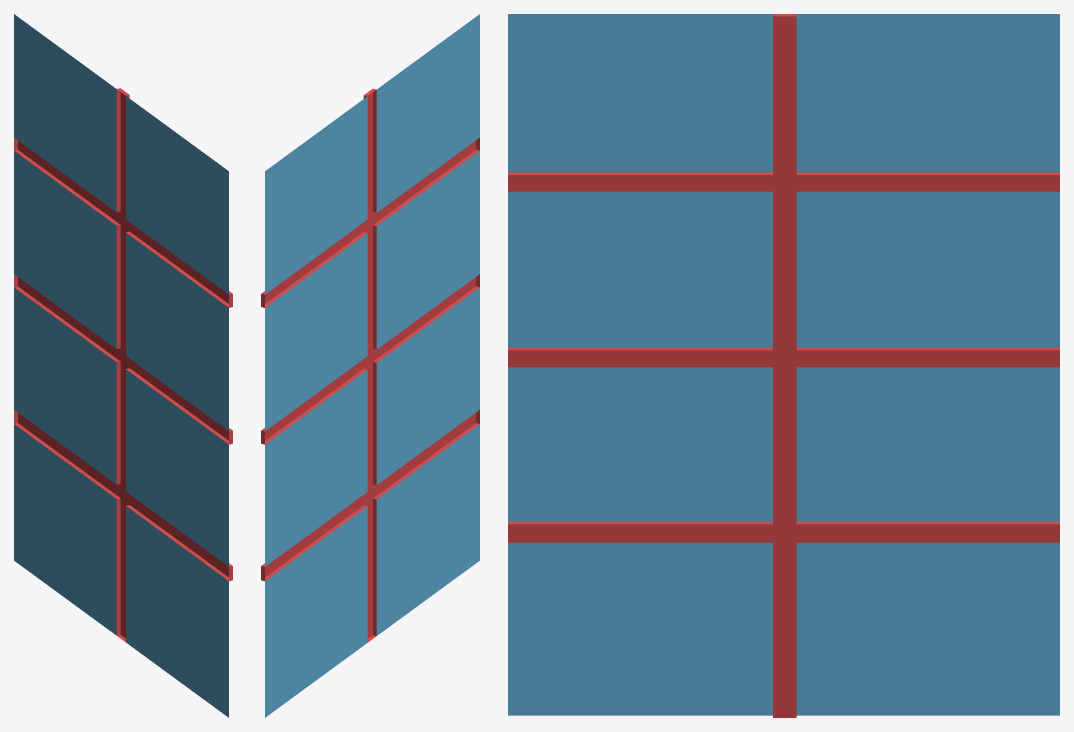
Rendered from FenêtreCarréCarreau.glb.
3 renders of one model, left to right at view 1: azimuth 30°, elevation 25°; view 2: azimuth 150°, elevation 25°; view 3: azimuth 270°, elevation 25°, orthographic. The views are drawn at different scales.
Parts seen in each view (by area): view 1: FenêtreCarré; view 2: FenêtreCarré; view 3: FenêtreCarré.
Boxes of the visible parts, left/top/right/bottom form: FenêtreCarré: left=14, top=14, right=232, bottom=717; FenêtreCarré: left=261, top=14, right=479, bottom=717; FenêtreCarré: left=508, top=14, right=1059, bottom=717.
Size of the model in its own units: 0.00967 by 1.3 by 0.928.
